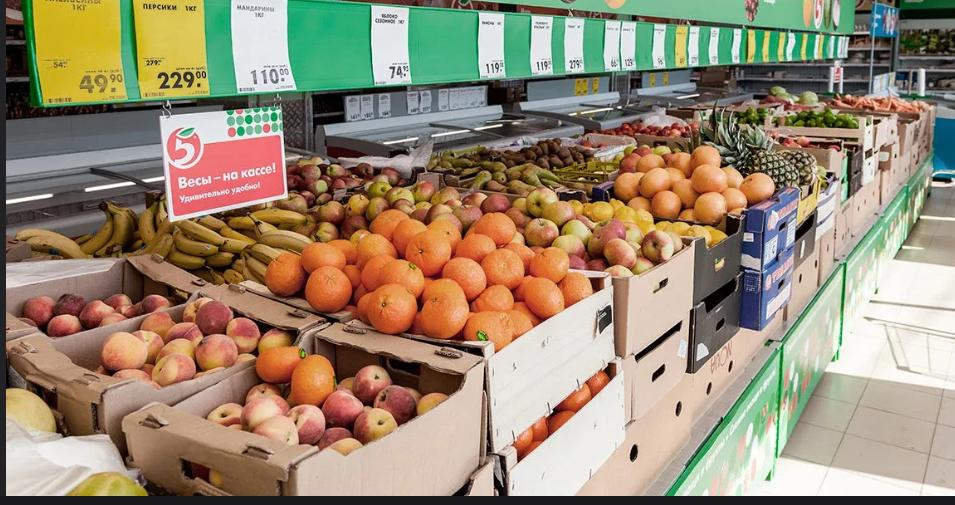banana: (26, 196, 308, 286)
lemon: (589, 198, 735, 248)
mandarin: (268, 211, 600, 342)
orange: (617, 145, 776, 222)
pear: (444, 157, 564, 191)
pineapple: (694, 120, 817, 194)
